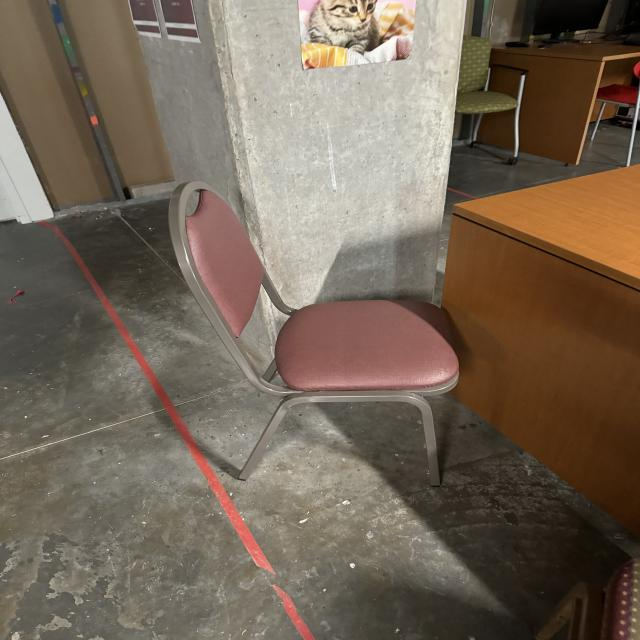chair: (173, 179, 472, 491)
